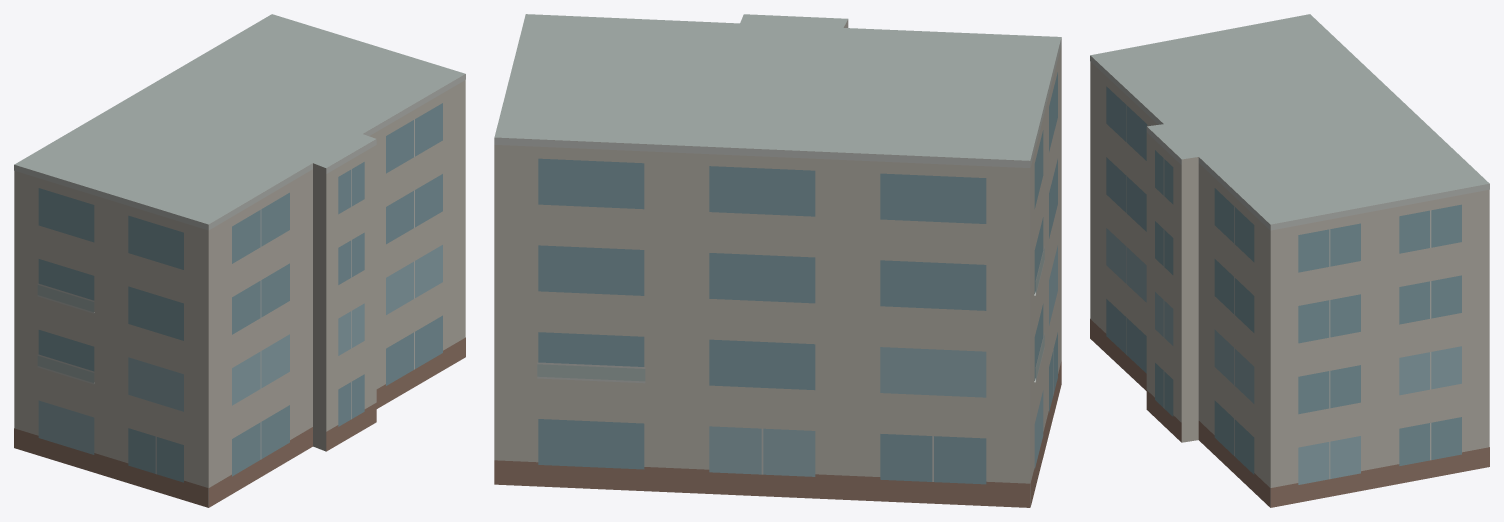
Rendered from survey-upis-32765528.glb.
3 views of the same model, side by side, from view 1: azimuth 30°, elevation 25°; view 2: azimuth 150°, elevation 25°; view 3: azimuth 270°, elevation 25° (orthographic). The views are drawn at different scales.
Visible parts, largest first — view 1: survey-upis-32765528.tmp; view 2: survey-upis-32765528.tmp; view 3: survey-upis-32765528.tmp.
Part boxes in pixels (x1,y1,x2,y2): survey-upis-32765528.tmp: (14,14,465,507); survey-upis-32765528.tmp: (494,14,1061,507); survey-upis-32765528.tmp: (1090,14,1489,507).
Bounding box in the file's own units: 18.43 × 11.55 × 14.78.
